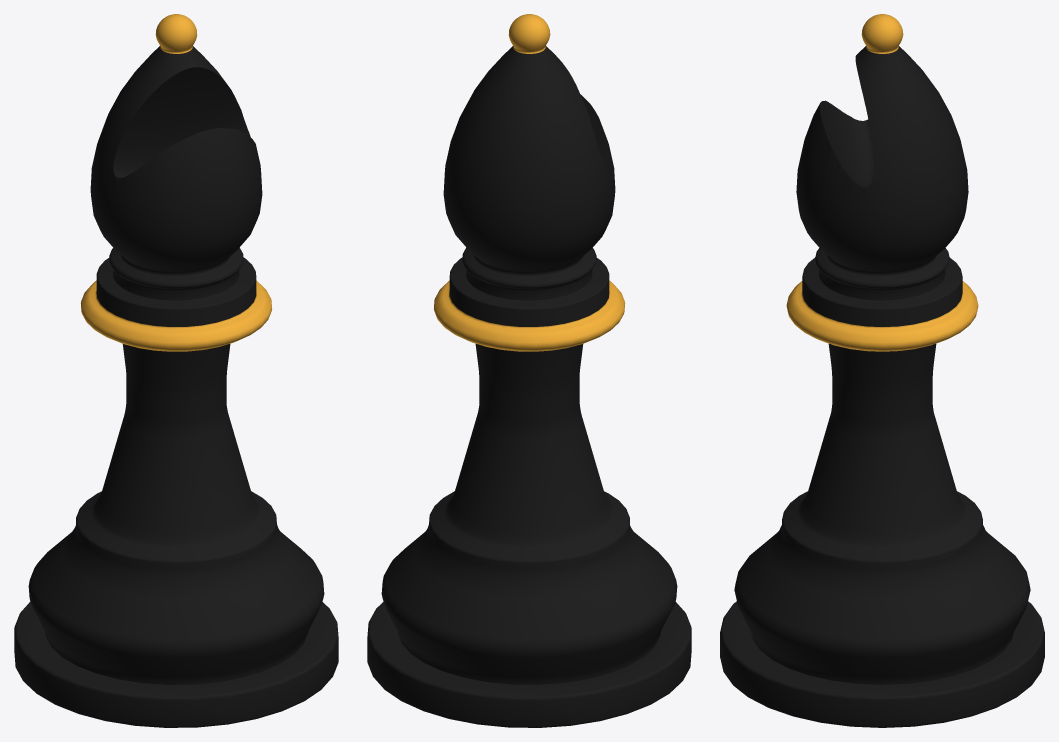
Rendered from gercek6_b_b.glb.
The picture shows the model from 3 angles, left to right: view 1: azimuth 30°, elevation 25°; view 2: azimuth 150°, elevation 25°; view 3: azimuth 270°, elevation 25°; orthographic projection.
Visible parts, largest first — view 1: Circle.027; view 2: Circle.027; view 3: Circle.027.
Part boxes in pixels (box(x1,y1,x2,y2)): Circle.027: box(14, 14, 338, 727); Circle.027: box(367, 14, 691, 727); Circle.027: box(720, 14, 1044, 727).
Size of the model in its own units: 31.61 by 69.24 by 31.61.
